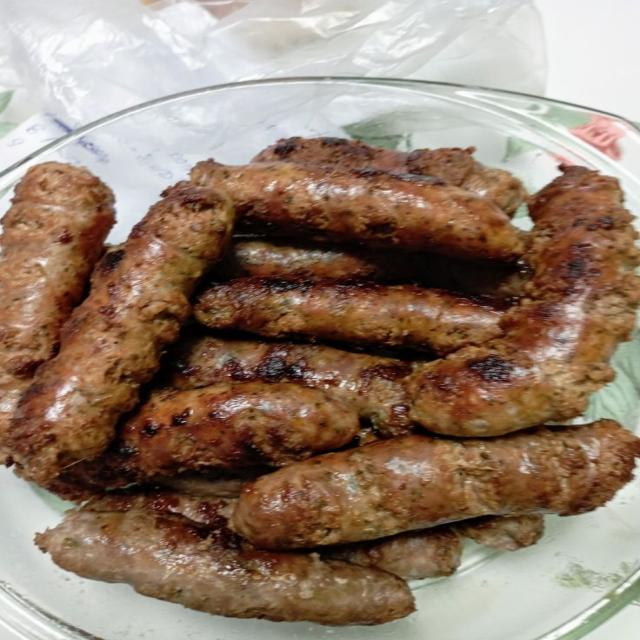sausage: (9, 183, 233, 482), (406, 167, 639, 436), (232, 420, 639, 548), (36, 495, 414, 625), (191, 160, 523, 262), (0, 162, 114, 457), (165, 334, 412, 435), (118, 382, 359, 482), (194, 278, 504, 354), (253, 137, 526, 215), (216, 238, 527, 298), (322, 514, 543, 579), (322, 526, 462, 579), (153, 468, 270, 498), (453, 514, 544, 551)
